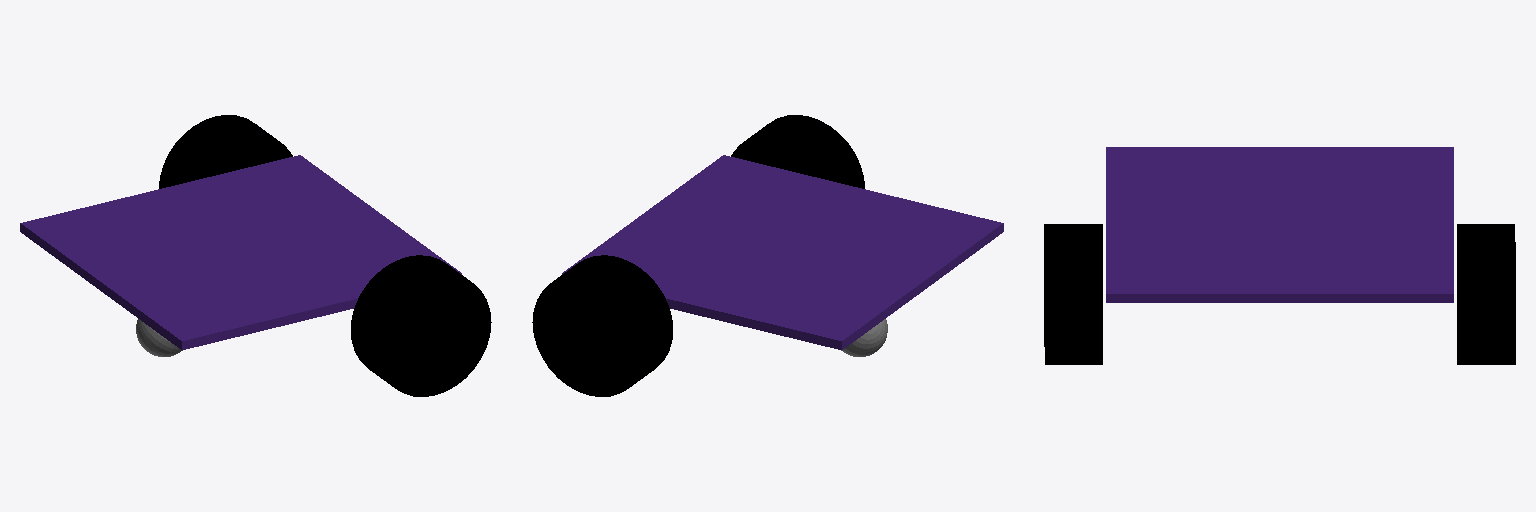
The robot description file, URDF, robot "homeplater":
<?xml version="1.0"?>
<robot name="homeplater">
    <material name="black">
        <color rgba="0 0 0 1"/>
    </material>
    <material name="purple">
        <color rgba="0.3098 0.1765 0.4980 1" />
    </material>
    <material name="gray">
        <color rgba="0.5 0.5 0.5 1" />
    </material>

    <link name="base_link">
        <visual>
            <geometry>
                <box size="0.16 0.16 0.005"/>
            </geometry>
            <material name="purple"/>
        </visual>
    </link>

    <joint name="caster joint" type="fixed">
        <parent link="base_link"/>
        <child link="caster"/>
        <origin xyz="-0.044 0 -0.0315" rpy="0.707 -0.707 -1.571"/>
    </joint>

    <link name="caster">
        <visual>
            <geometry>
                <sphere radius="0.014"/>
            </geometry>
            <material name="gray"/>
        </visual>
    </link>

    <joint name="left_wheel_joint" type="continuous">
        <parent link="base_link"/>
        <child link="left_wheel"/>
        <origin xyz="0.048 0.095 -0.013" rpy="1.571 0 0"/>
        <axis xyz="0 0 1" />
    </joint>

    <link name="left_wheel">
        <visual>
            <geometry>
                <cylinder radius="0.0325" length="0.027"/>
            </geometry>
            <material name="black"/>
        </visual>
    </link>

    <joint name="right_wheel_joint" type="continuous">
        <parent link="base_link"/>
        <child link="right_wheel"/>
        <origin xyz="0.048 -0.095 -0.013" rpy="1.571 0 0"/>
        <axis xyz="0 0 1" />
    </joint>

    <link name="right_wheel">
        <visual>
            <geometry>
                <cylinder radius="0.0325" length="0.027"/>
            </geometry>
            <material name="black"/>
        </visual>
    </link>
    
</robot>

--- What the picture shows (computed from the rendered views, not written in the file) ---
The picture shows the robot from 3 angles, left to right: view 1: azimuth 30°, elevation 25°; view 2: azimuth 150°, elevation 25°; view 3: azimuth 270°, elevation 25°; orthographic projection.
Robot: homeplater — 4 links, 3 joints (2 continuous, 1 fixed); root link base_link; default pose: all joints at 0.
Links seen in each view (by area): view 1: base_link, right_wheel, left_wheel, caster; view 2: base_link, left_wheel, right_wheel, caster; view 3: base_link, left_wheel, right_wheel.
Link boxes in pixels (x1,y1,x2,y2): base_link: [20, 155, 461, 349]; right_wheel: [351, 255, 491, 396]; left_wheel: [159, 115, 292, 188]; caster: [136, 319, 182, 356]; base_link: [562, 155, 1003, 349]; left_wheel: [532, 255, 672, 396]; right_wheel: [731, 115, 864, 188]; caster: [841, 319, 887, 356]; base_link: [1106, 147, 1453, 302]; left_wheel: [1457, 224, 1515, 364]; right_wheel: [1044, 224, 1102, 364].
Size in the robot's own frame: 0.1605 by 0.217 by 0.065 metres.
Geometry: primitives only (box / cylinder / sphere), no mesh files.